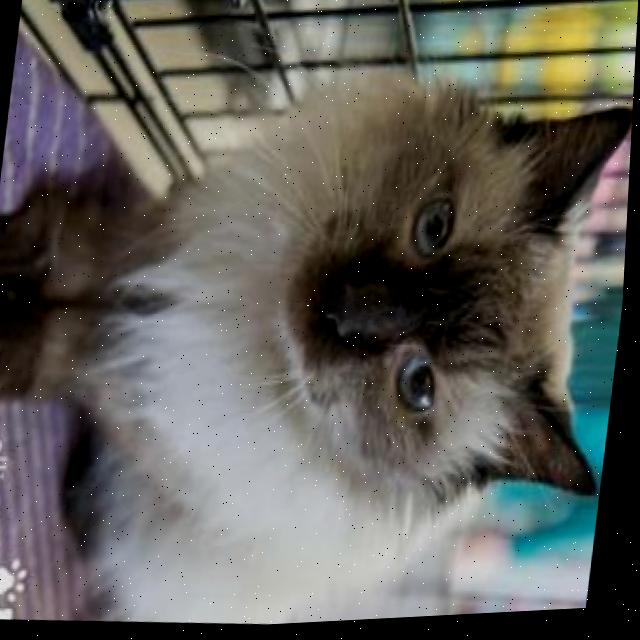Birman: (0, 28, 638, 640)
